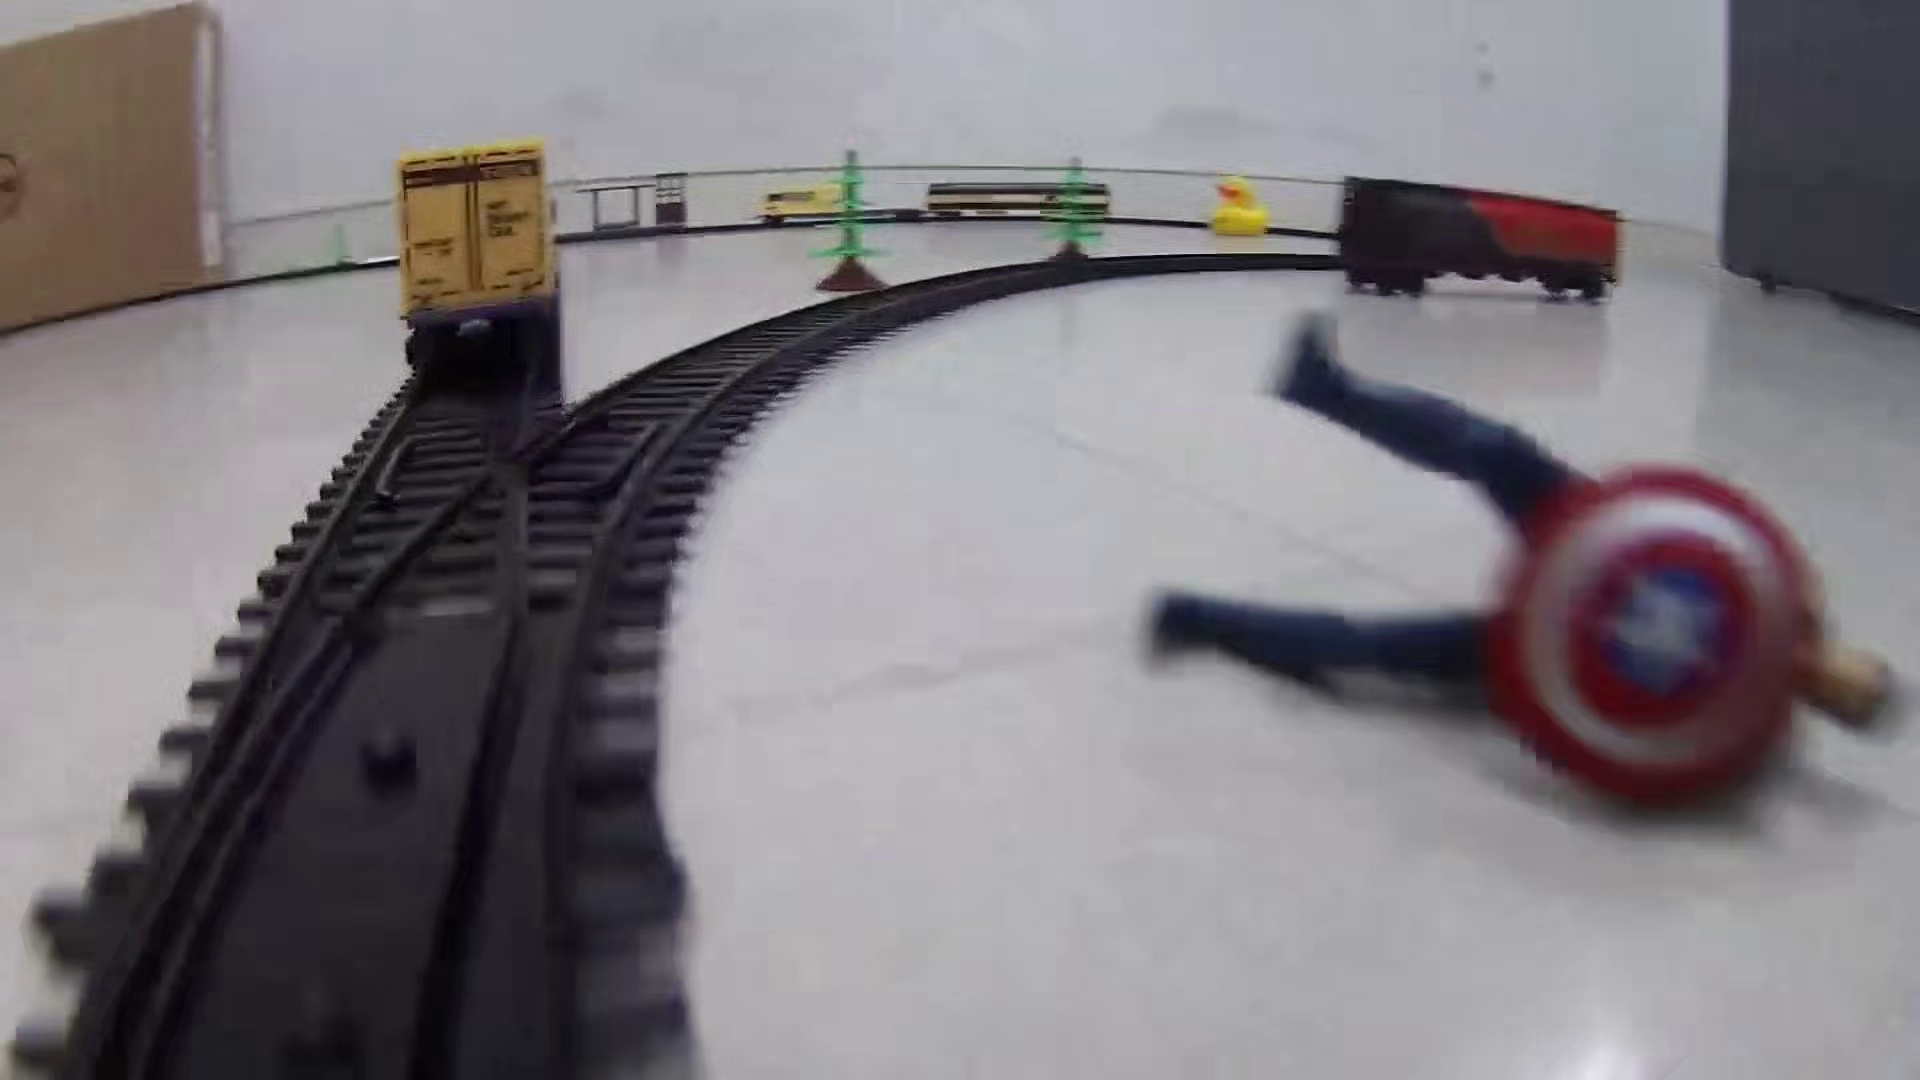people: (1136, 306, 1905, 837)
tree: (805, 142, 901, 297), (1049, 158, 1105, 264)
